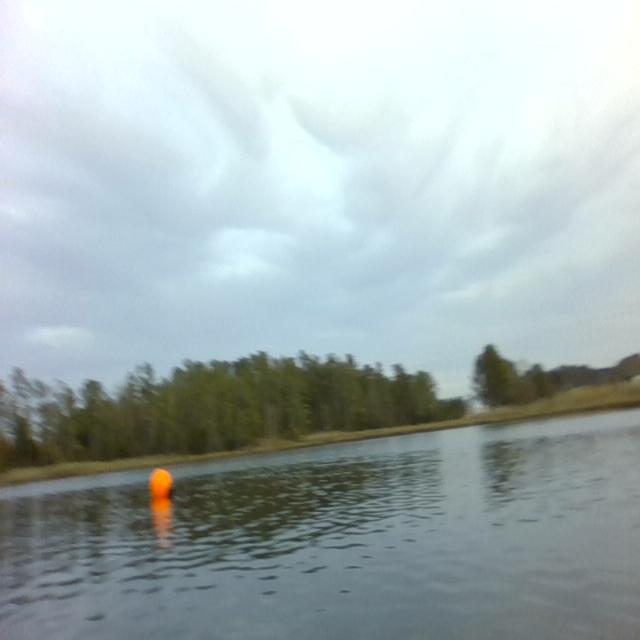Buoy: (146, 461, 177, 507)
